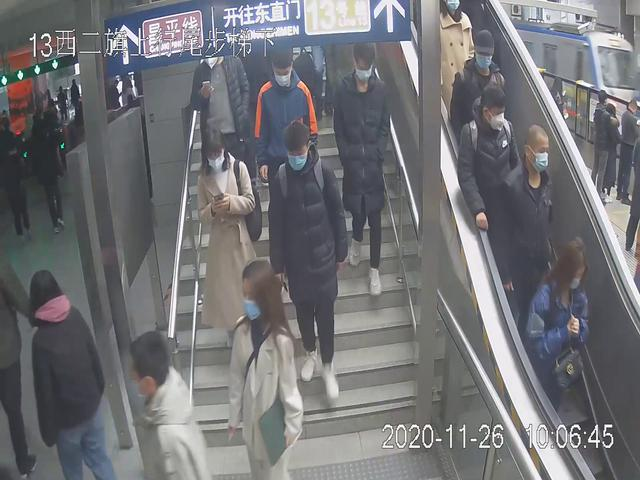person: (265, 118, 352, 407), (23, 266, 121, 480), (222, 256, 308, 480), (189, 121, 262, 359), (329, 34, 391, 304), (492, 117, 560, 345), (453, 83, 529, 262), (523, 232, 592, 427), (252, 41, 324, 222)
